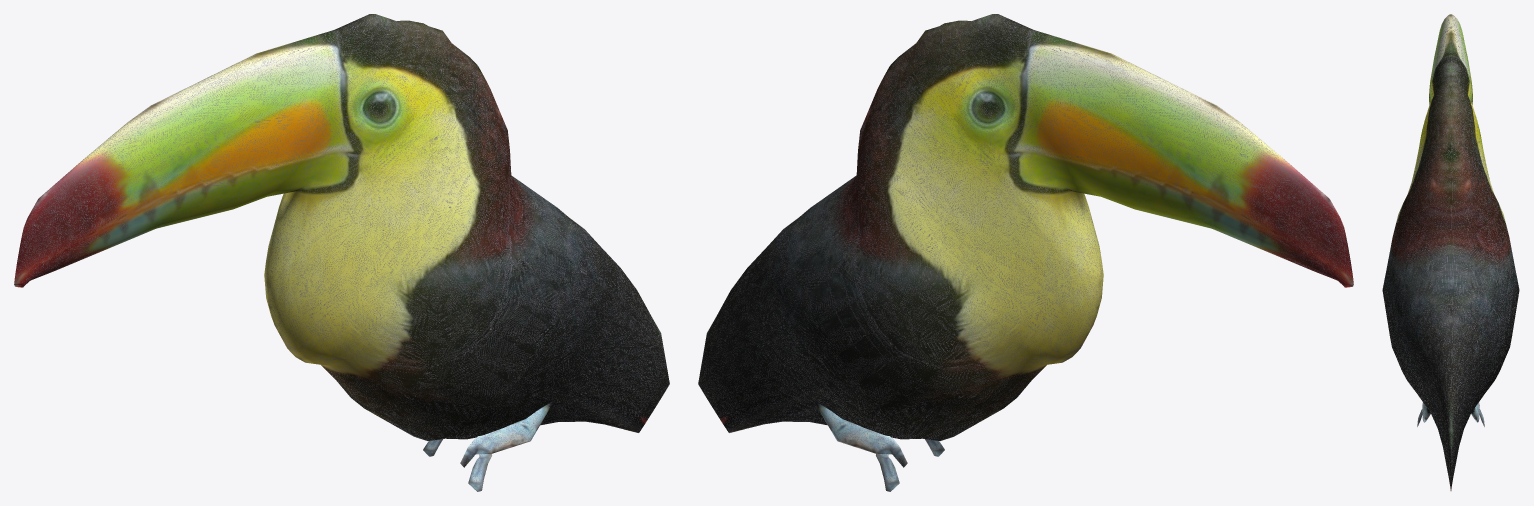
The model's file is Tucan01.fbx.
3 renders of one model, left to right at view 1: azimuth 30°, elevation 25°; view 2: azimuth 150°, elevation 25°; view 3: azimuth 270°, elevation 25°, orthographic. The views are drawn at different scales.
Parts seen in each view (by area): view 1: Model; view 2: Model; view 3: Model.
Boxes of the visible parts, <box> form: Model: <box>14,14,669,491</box>; Model: <box>698,14,1353,491</box>; Model: <box>1382,14,1519,490</box>.
Size of the model in its own units: 1.32 by 0.932 by 0.3426.
